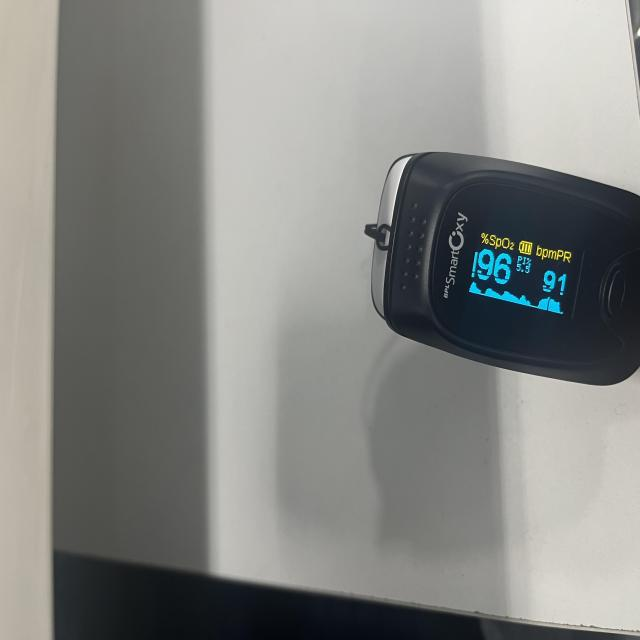spo2: (365, 152, 640, 390)
